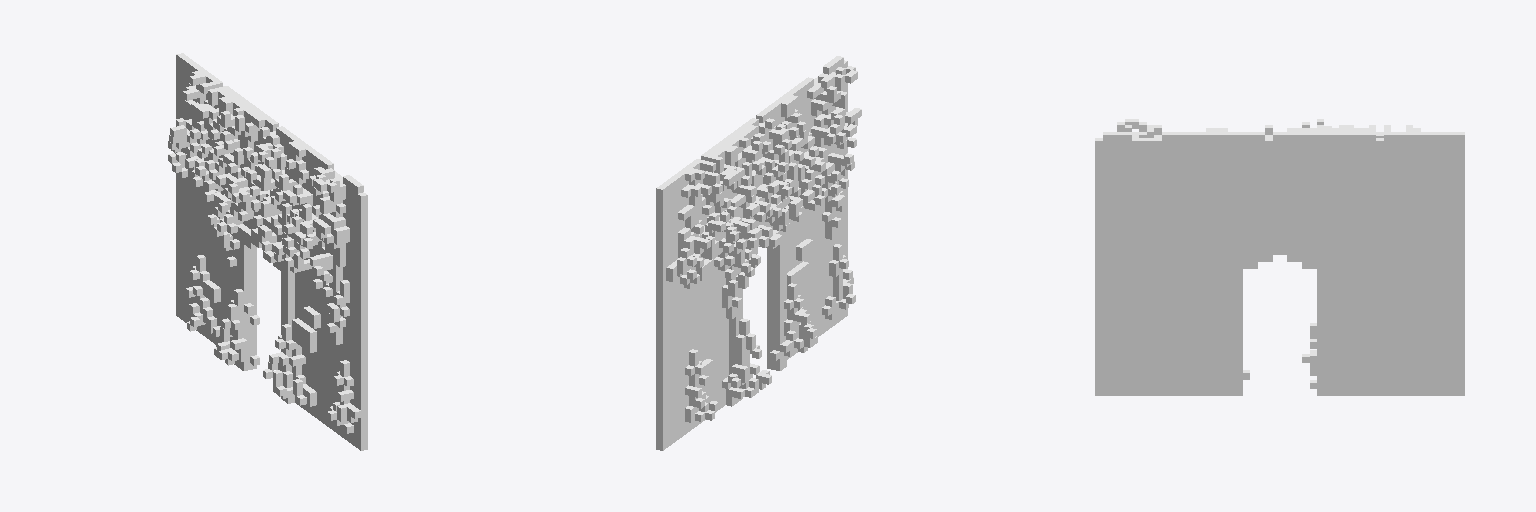
Rendered from Desert-5-Wall_GardenDoor_02.obj.
3 views of the same model, side by side, from view 1: azimuth 30°, elevation 25°; view 2: azimuth 150°, elevation 25°; view 3: azimuth 270°, elevation 25° (orthographic).
Parts seen in each view (by area): view 1: Wall_GardenDoor_02; view 2: Wall_GardenDoor_02; view 3: Wall_GardenDoor_02.
Boxes of the visible parts, x1,y1,x2,y2 form: Wall_GardenDoor_02: [168, 53, 367, 450]; Wall_GardenDoor_02: [656, 56, 861, 450]; Wall_GardenDoor_02: [1095, 119, 1464, 395].
Size of the model in its own units: 0.6 by 3.9 by 5.